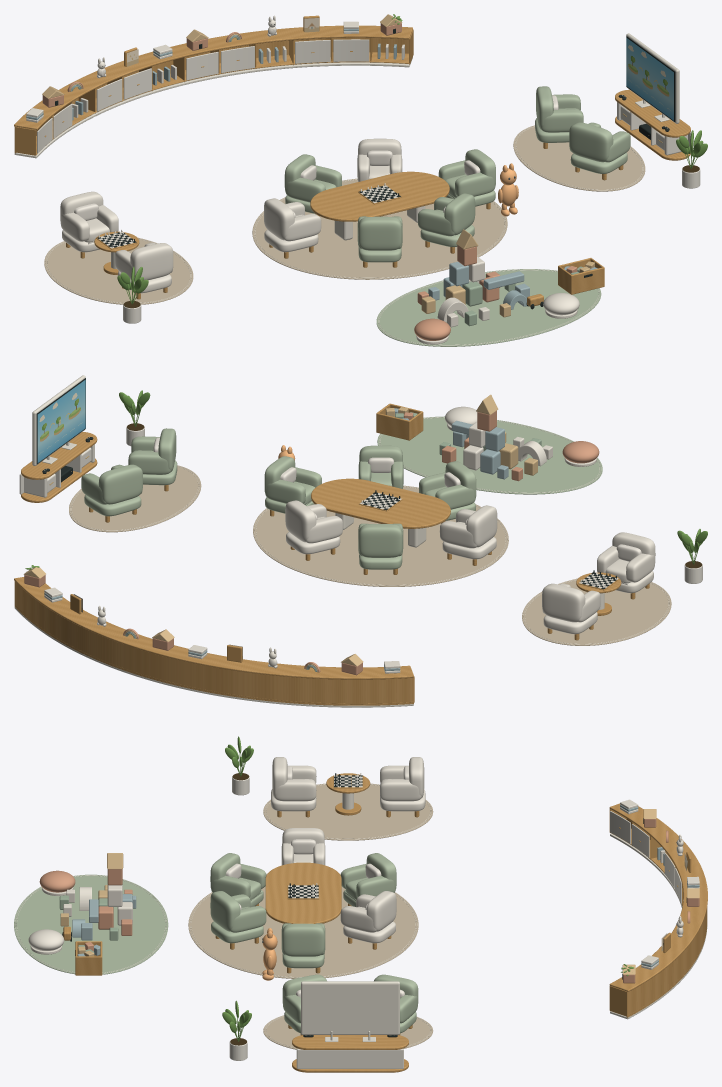
3 views of the same model, one above another, from view 1: azimuth 30°, elevation 25°; view 2: azimuth 150°, elevation 25°; view 3: azimuth 270°, elevation 25° (orthographic). The views are drawn at different scales.
Parts seen in each view (by area): view 1: games_rear_display, games_central_rug, games_front_play_rug, games_right_console, games_central_table, games_front_blocks, games_left_chess_rug, games_right_console_rug, games_right_console_chair_1, games_left_chess_chair_a, games_central_chair_4, games_central_chair_3 (+12 smaller); view 2: games_rear_display, games_central_rug, games_front_play_rug, games_right_console, games_central_table, games_left_chess_rug, games_front_blocks, games_right_console_rug, games_right_console_chair_0, games_left_chess_chair_b, games_central_chair_1, games_central_chair_4 (+11 smaller); view 3: games_rear_display, games_right_console, games_front_play_rug, games_central_rug, games_left_chess_rug, games_central_table, games_front_blocks, games_central_chair_3, games_central_chair_1, games_left_chess_chair_a, games_left_chess_chair_b, games_central_chair_5 (+12 smaller).
Boxes of the visible parts, <box> form: games_rear_display: <box>14,14,413,158</box>; games_central_rug: <box>252,178,507,279</box>; games_front_play_rug: <box>376,269,601,346</box>; games_right_console: <box>615,33,691,160</box>; games_central_table: <box>310,171,449,240</box>; games_front_blocks: <box>417,229,543,327</box>; games_left_chess_rug: <box>44,237,193,304</box>; games_right_console_rug: <box>513,125,645,191</box>; games_right_console_chair_1: <box>569,122,630,180</box>; games_left_chess_chair_a: <box>60,191,118,258</box>; games_central_chair_4: <box>264,198,321,258</box>; games_central_chair_3: <box>418,193,475,253</box>; games_rear_display: <box>14,565,414,707</box>; games_central_rug: <box>253,485,508,586</box>; games_front_play_rug: <box>377,416,602,494</box>; games_right_console: <box>19,375,97,502</box>; games_central_table: <box>311,478,450,547</box>; games_left_chess_rug: <box>522,578,671,645</box>; games_front_blocks: <box>439,394,552,481</box>; games_right_console_rug: <box>69,465,201,532</box>; games_right_console_chair_0: <box>81,464,142,522</box>; games_left_chess_chair_b: <box>597,532,655,599</box>; games_central_chair_1: <box>285,500,342,560</box>; games_central_chair_4: <box>439,505,497,565</box>; games_rear_display: <box>609,799,707,1019</box>; games_right_console: <box>292,981,408,1072</box>; games_front_play_rug: <box>14,874,168,974</box>; games_central_rug: <box>188,873,418,978</box>; games_left_chess_rug: <box>263,783,433,840</box>; games_central_table: <box>265,862,341,923</box>; games_front_blocks: <box>59,853,136,941</box>; games_central_chair_3: <box>210,891,266,949</box>; games_central_chair_1: <box>340,891,396,949</box>; games_left_chess_chair_a: <box>380,757,425,817</box>; games_left_chess_chair_b: <box>271,757,316,817</box>; games_central_chair_5: <box>281,923,325,973</box>.
Size of the model in its own units: 15.36 by 2.1 by 15.52.
23 materials, 4 textured.
